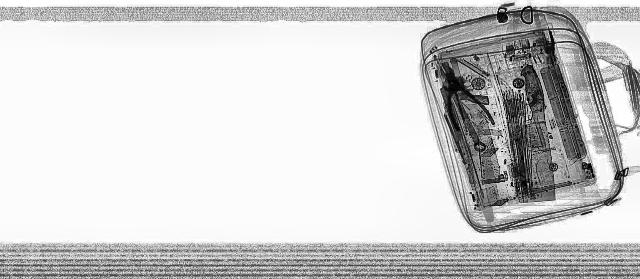Gun: (438, 61, 492, 107)
Knife: (491, 65, 569, 203)
